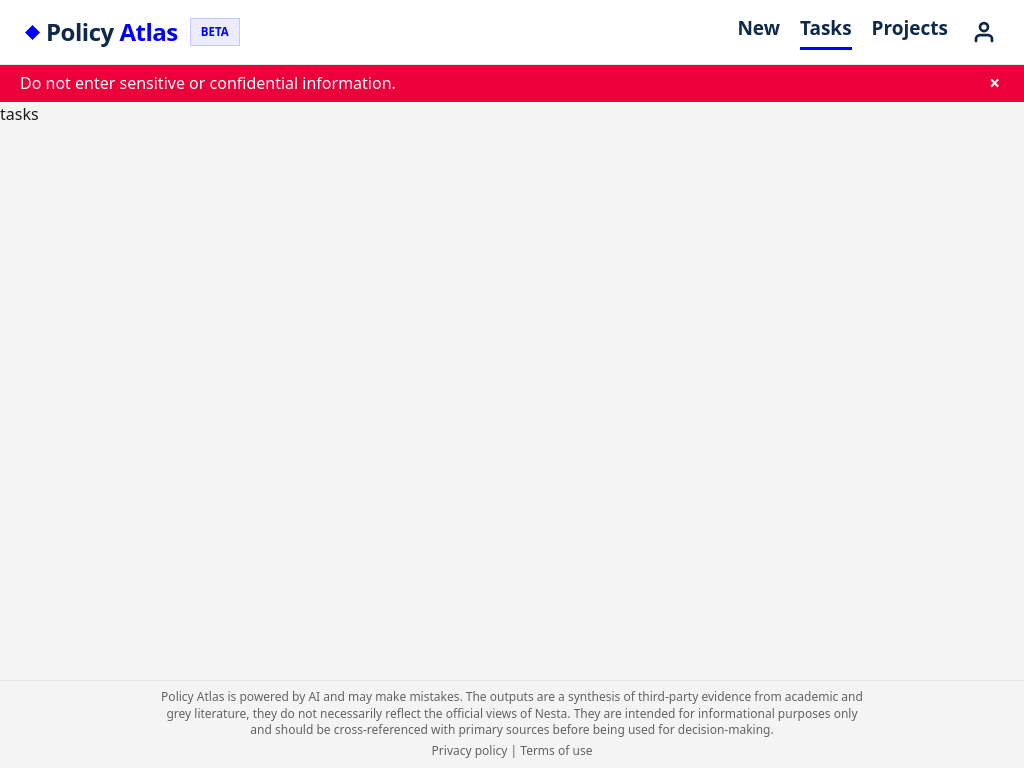
Test: AppShell — the account menu (task 033 phase 10b, contract § 11 / rubric 41) › enrolled: shows the email and the organisation name
This screenshot has width=1024, height=768.
Click the button named "Account" at (984, 32), box top-left (968, 16), bottom-right (1000, 48)
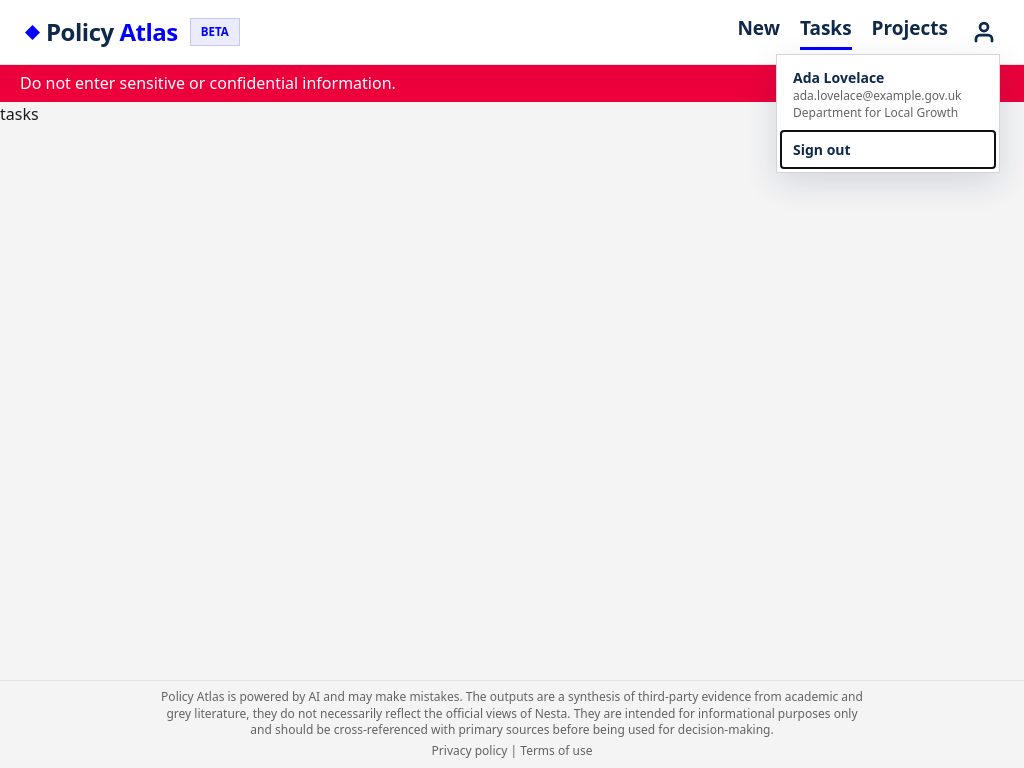
expect the text "ada.lovelace@example.gov.uk" is shown: met, box top-left (793, 88), bottom-right (983, 105)
expect the text "Department for Local Growth" is shown: met, box top-left (793, 105), bottom-right (983, 122)
